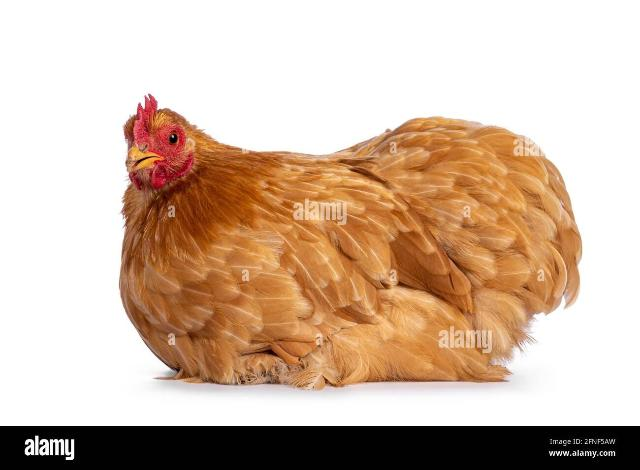Chicken: (118, 90, 585, 388)
